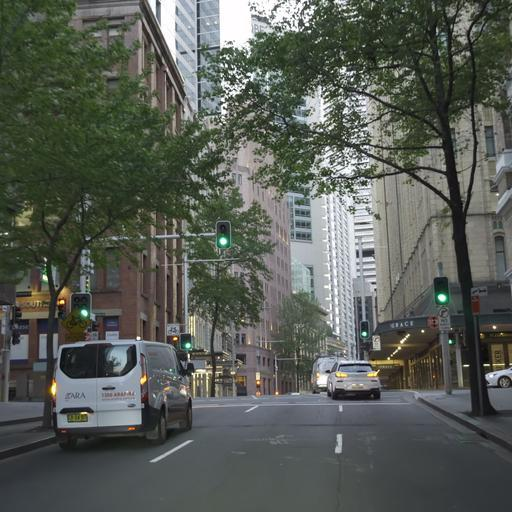Street light: (71, 292, 91, 321), (214, 219, 231, 249), (433, 276, 449, 305), (179, 332, 192, 351), (55, 297, 65, 319), (359, 320, 369, 339)
